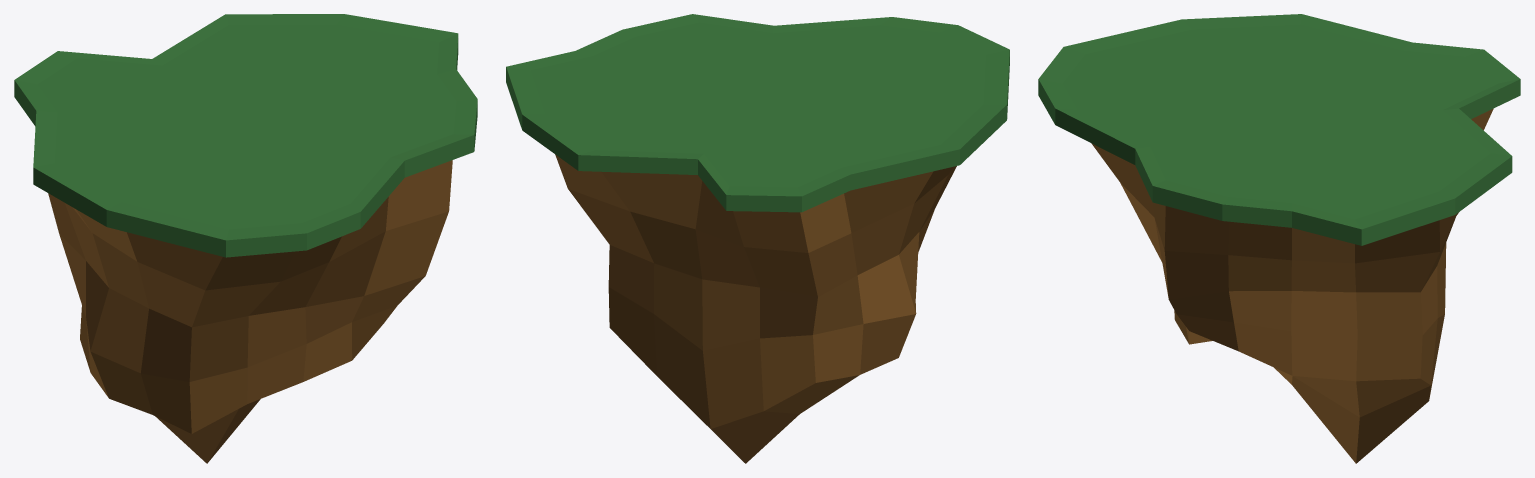
Rendered from blankIsland.fbx.
The picture shows the model from 3 angles, left to right: view 1: azimuth 30°, elevation 25°; view 2: azimuth 150°, elevation 25°; view 3: azimuth 270°, elevation 25°; orthographic projection. The views are drawn at different scales.
Parts seen in each view (by area): view 1: Cube.001; view 2: Cube.001; view 3: Cube.001.
Part boxes in pixels (x1,y1,x2,y2): Cube.001: (14,14,477,463); Cube.001: (506,14,1009,463); Cube.001: (1038,14,1520,463).
Size of the model in its own units: 405 by 311 by 383.
